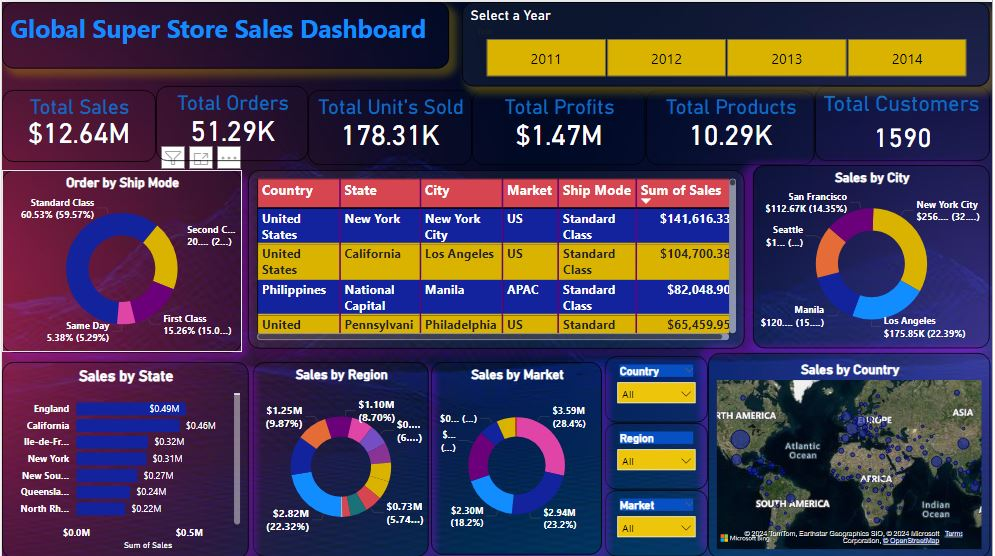

This screenshot's page, from the dashboard's own definition file:
{"tool":"powerbi","page":{"name":"Page 1","canvas":[1280,720],"ordinal":0},"visuals":[{"type":"textbox","box":[0,0,577.8,86.4],"z":0},{"type":"donutChart","title":"Order by Ship Mode","fields":{"Category":["Orders.Ship Mode"],"Y":["CountNonNull(Orders.Order ID)"]},"box":[0,216.9,310,236],"z":1000},{"type":"map","title":"Sales by Country","fields":{"Size":["Sum(Orders.Sales)"],"Category":["Orders.Country"]},"box":[913,453.5,365.5,265.4],"z":2000},{"type":"donutChart","title":"Sales by Region","fields":{"Category":["Orders.Region"],"Y":["Sum(Orders.Sales)"]},"box":[324.5,465.6,227.5,251.8],"z":3000},{"type":"card","title":"Total Sales","fields":{"Values":["Sum(Orders.Sales)"]},"box":[0,113.7,198.7,92.5],"z":4000},{"type":"card","title":"Total Orders","fields":{"Values":["Orders.Total Orders"]},"box":[198.7,109.2,197.2,97.1],"z":5000},{"type":"card","title":"Total Unit''s Sold","fields":{"Values":["Orders.Total Qty's Sold"]},"box":[395.8,113.7,212.3,97.1],"z":6000},{"type":"card","title":"Total Profits","fields":{"Values":["Orders.Total Profit"]},"box":[608.2,113.7,224.5,97.1],"z":7000},{"type":"slicer","fields":{"Values":["Orders.Country"]},"box":[779.5,458,133.5,86.4],"z":8000},{"type":"slicer","fields":{"Values":["Orders.Market"]},"box":[779.5,630.9,133.5,86.4],"z":9000},{"type":"slicer","fields":{"Values":["Orders.Region"]},"box":[779.5,544.5,133.5,86.4],"z":10000},{"type":"card","title":"Total  Products","fields":{"Values":["Orders.Total No: of Products"]},"box":[832.6,113.7,218.4,97.1],"z":11000},{"type":"card","title":"Total Customers","fields":{"Values":["Orders.Total Customers"]},"box":[1051,109.2,226,97.1],"z":12000},{"type":"donutChart","title":"Sales by City","fields":{"Y":["Sum(Orders.Sales)"],"Category":["Orders.City"]},"box":[970.6,210.8,306.4,236.6],"z":13000},{"type":"barChart","title":"Sales by State","fields":{"Category":["Orders.State"],"Y":["Sum(Orders.Sales)"]},"box":[0,465,319,254],"z":14000},{"type":"slicer","title":"Select a Year","fields":{"Values":["Orders.Order Date.Variation.Date Hierarchy.Year"]},"box":[594.5,0,682.5,109.2],"z":15000},{"type":"tableEx","fields":{"Values":["Orders.Country","Orders.State","Orders.City","Orders.Market","Orders.Ship Mode","Sum(Orders.Sales)"]},"box":[318.5,216.9,641.5,230.5],"z":16000},{"type":"donutChart","title":"Sales by Market","fields":{"Category":["Orders.Market"],"Y":["Sum(Orders.Sales)"]},"box":[555.1,465.6,221.4,248.7],"z":17000}]}

Visuals, with their boxes in screenshot pixels (x1, y1, x2, y2), scaled from the page's 1280x720 canvas onto the 995x556 screenshot:
textbox: [0, 0, 449, 67]
"Order by Ship Mode" donutChart: [0, 167, 241, 350]
"Sales by Country" map: [710, 350, 994, 555]
"Sales by Region" donutChart: [252, 360, 429, 554]
"Total Sales" card: [0, 88, 154, 159]
"Total Orders" card: [154, 84, 308, 159]
"Total Unit''s Sold" card: [308, 88, 473, 163]
"Total Profits" card: [473, 88, 647, 163]
slicer - Orders.Country: [606, 354, 710, 420]
slicer - Orders.Market: [606, 487, 710, 554]
slicer - Orders.Region: [606, 420, 710, 487]
"Total  Products" card: [647, 88, 817, 163]
"Total Customers" card: [817, 84, 993, 159]
"Sales by City" donutChart: [754, 163, 993, 345]
"Sales by State" barChart: [0, 359, 248, 555]
"Select a Year" slicer: [462, 0, 993, 84]
tableEx - Orders.Country x Orders.State: [248, 167, 746, 345]
"Sales by Market" donutChart: [432, 360, 604, 552]
